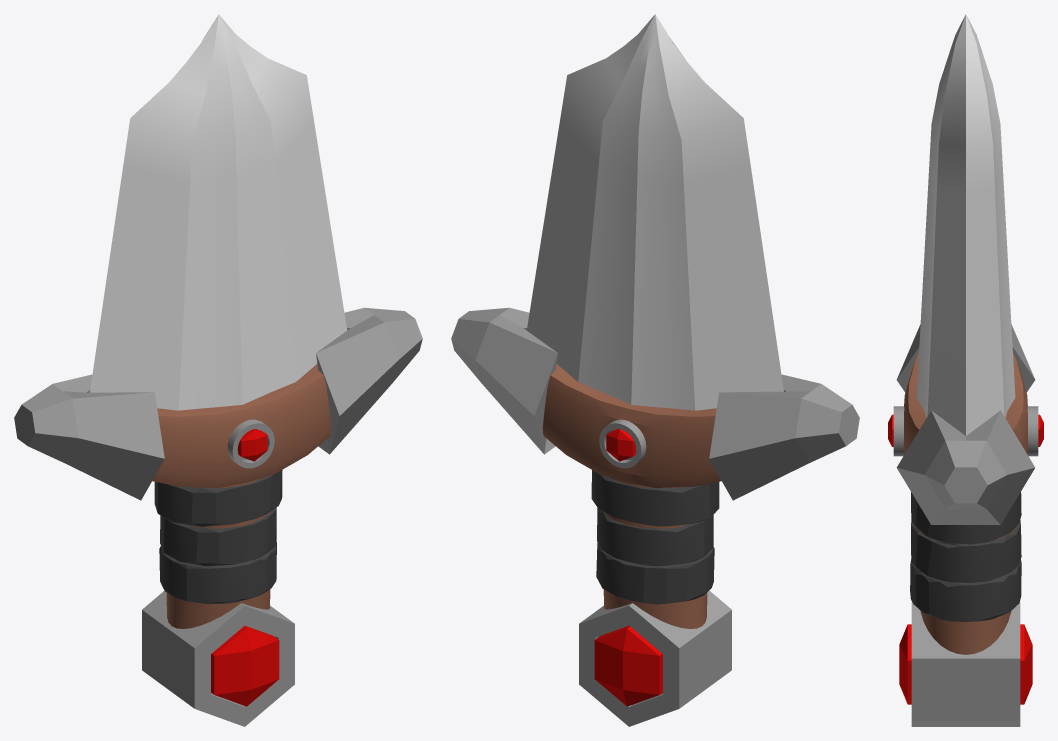
File: uploads_files_4474047_sword.fbx
The picture shows the model from 3 angles, left to right: view 1: azimuth 30°, elevation 25°; view 2: azimuth 150°, elevation 25°; view 3: azimuth 270°, elevation 25°; orthographic projection. The views are drawn at different scales.
Visible parts, largest first — view 1: sword; view 2: sword; view 3: sword.
Part boxes in pixels (left/top/right/bottom): sword: left=14, top=14, right=422, bottom=726; sword: left=451, top=14, right=859, bottom=726; sword: left=888, top=14, right=1043, bottom=726.
Bounding box in the file's own units: 372 × 629 × 125.
